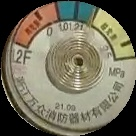green: (58, 2, 98, 25)
needle: (86, 5, 98, 38)
red: (7, 2, 59, 48)
yellow: (92, 8, 136, 61)
